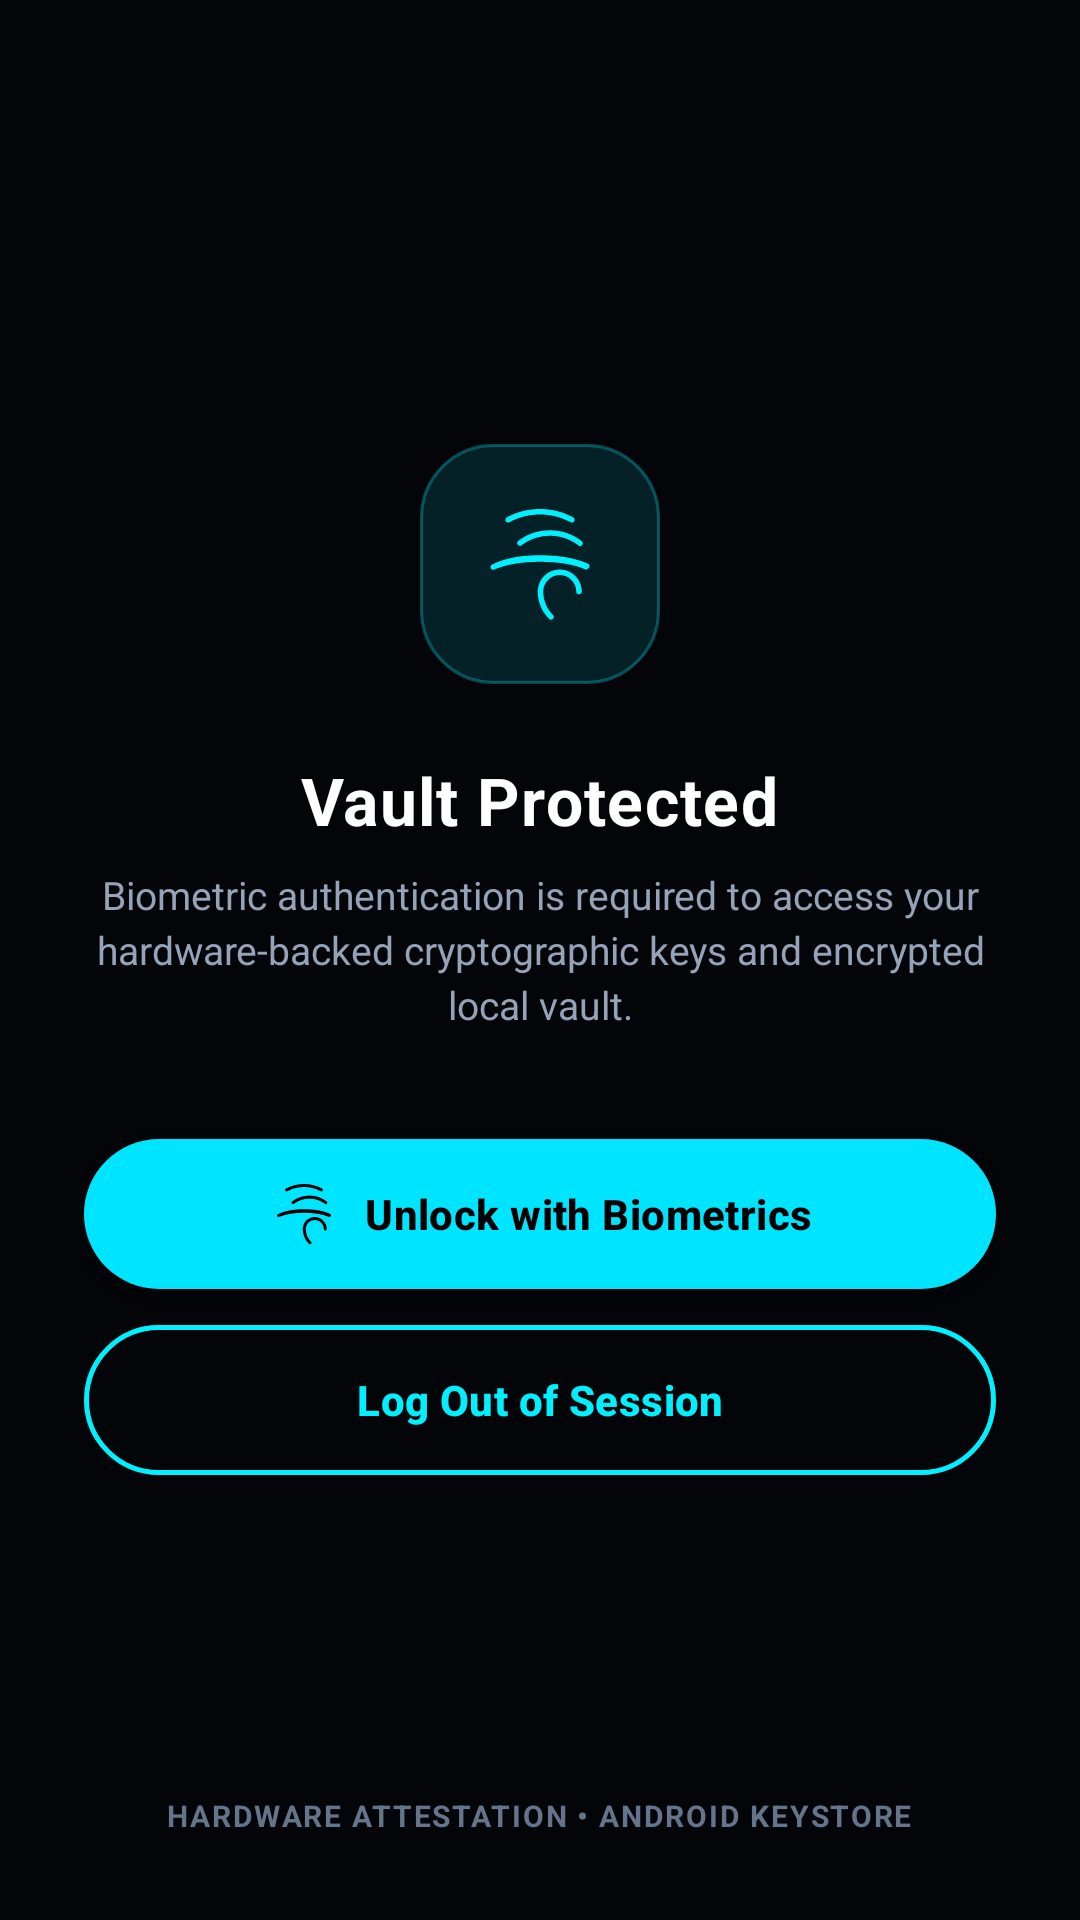

Screen size 1080x1920. Icon name, then its center in pixels as (x,y):
fingerprint: (540,564)
